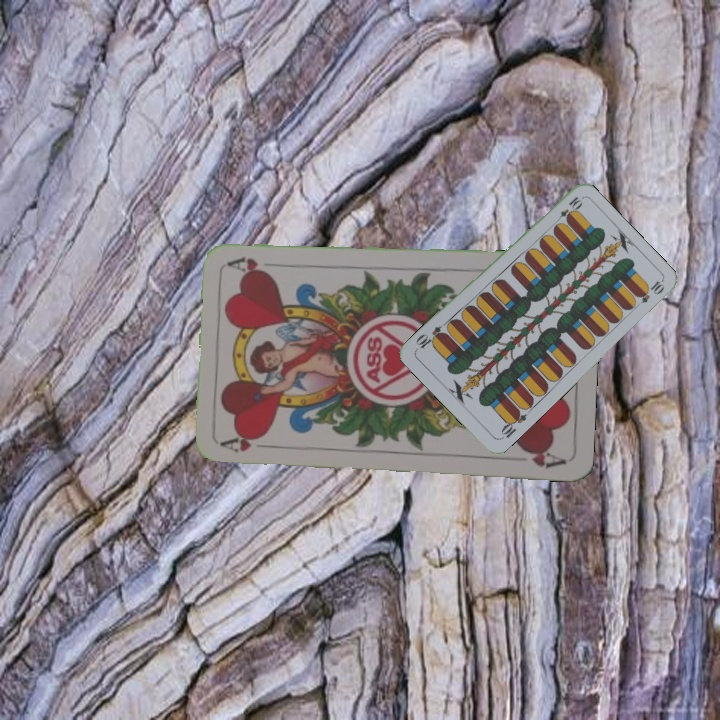E10: (551, 192, 584, 227), (497, 406, 529, 442)
HA: (218, 431, 278, 455)
